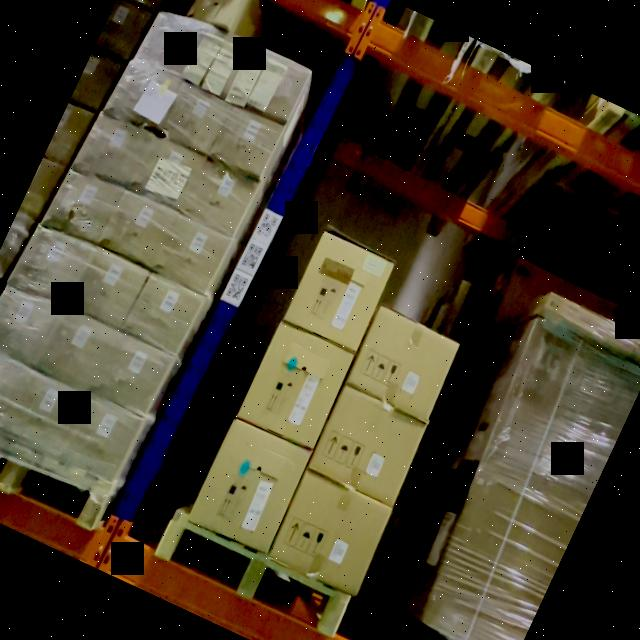box: (400, 323, 640, 640), (190, 420, 312, 553), (270, 472, 394, 594), (238, 324, 354, 451), (310, 390, 427, 505), (284, 232, 394, 352), (347, 306, 462, 420), (59, 396, 142, 484), (4, 374, 83, 458), (92, 334, 172, 416), (12, 226, 90, 308), (44, 168, 121, 246), (125, 274, 201, 353), (39, 311, 113, 391), (76, 114, 150, 190), (140, 12, 218, 84), (231, 48, 306, 122), (157, 216, 230, 292), (74, 252, 146, 328), (184, 162, 256, 236), (110, 60, 182, 134), (134, 138, 206, 211), (106, 192, 176, 266), (161, 86, 232, 156), (212, 106, 281, 176), (0, 288, 58, 367), (190, 34, 248, 97), (95, 0, 150, 60), (70, 49, 122, 112), (46, 105, 91, 166), (0, 347, 24, 428), (191, 0, 252, 31), (118, 0, 175, 13)
